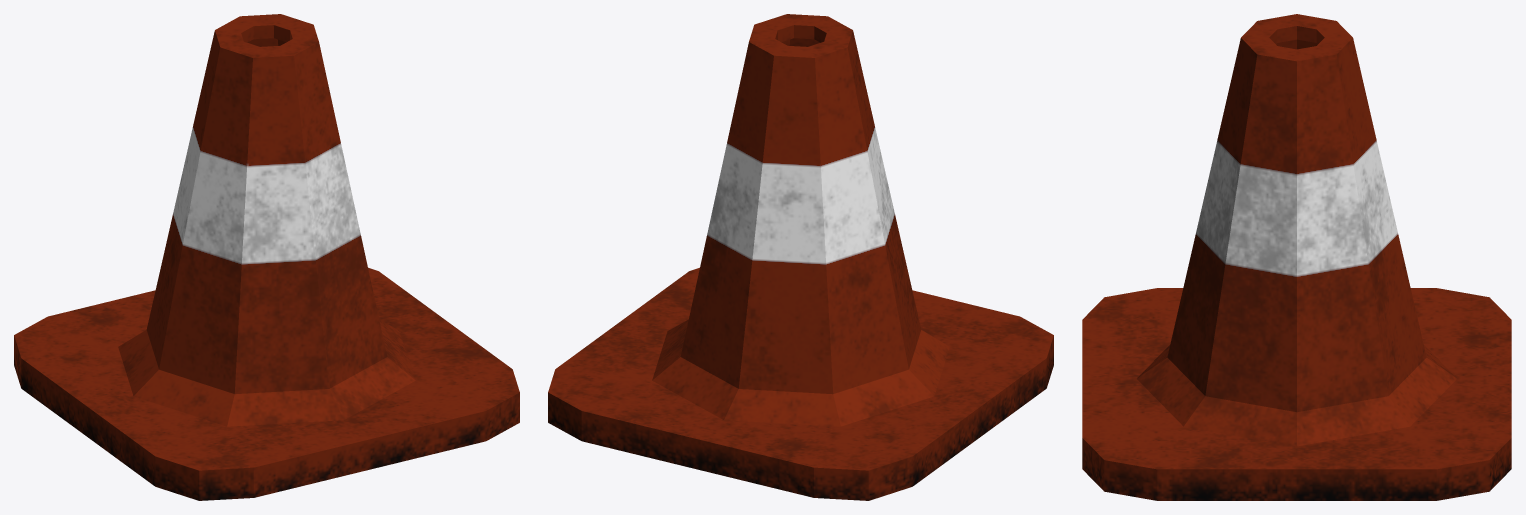
3 renders of one model, left to right at view 1: azimuth 30°, elevation 25°; view 2: azimuth 150°, elevation 25°; view 3: azimuth 270°, elevation 25°, orthographic. The views are drawn at different scales.
Parts seen in each view (by area): view 1: model; view 2: model; view 3: model.
Part boxes in pixels (box(x1,y1,x2,y2)): model: box(14, 14, 519, 500); model: box(548, 14, 1053, 500); model: box(1082, 14, 1511, 500).
Size of what is drawn, in the model's own units: 0.6069 by 0.5812 by 0.6069.
Materials: 1 (1 with a texture image).
